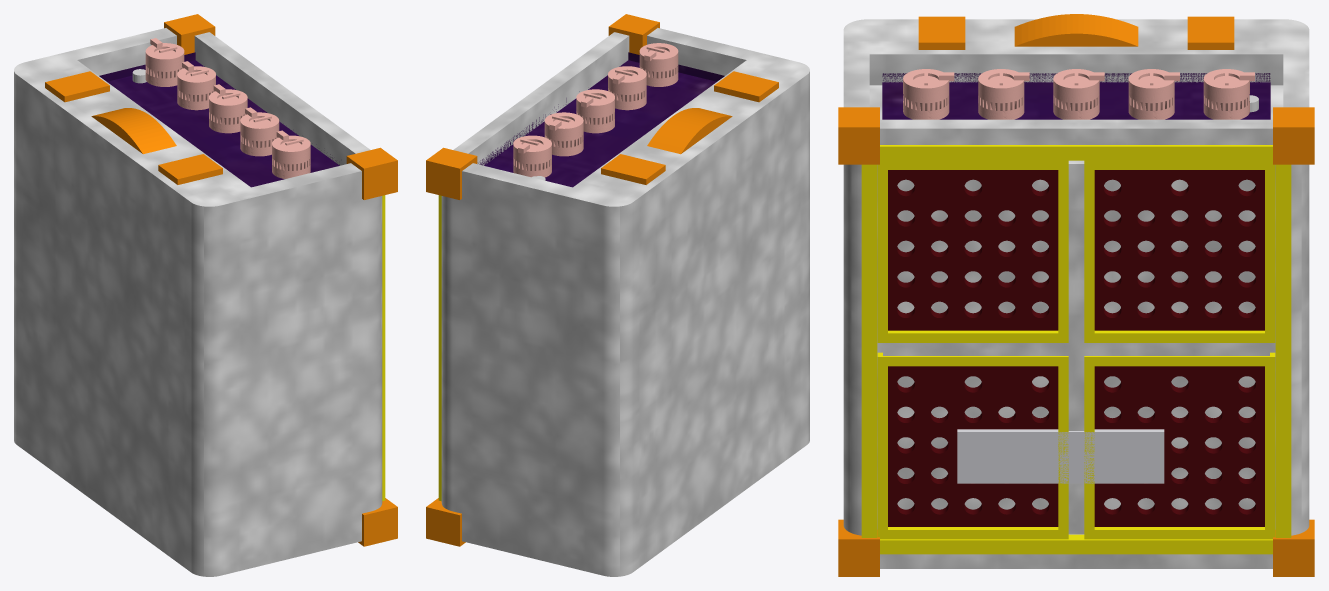
Rendered from Music_Amplifier__0003.glb.
3 views of the same model, side by side, from view 1: azimuth 30°, elevation 25°; view 2: azimuth 150°, elevation 25°; view 3: azimuth 270°, elevation 25° (orthographic). The views are drawn at different scales.
Parts seen in each view (by area): view 1: body::cabinet, body::gold_panel, body::handle, body::corner_cap_0_1, knob_0::knob_0, knob_4::knob_4, knob_1::knob_1, knob_2::knob_2, knob_3::knob_3, body::corner_cap_0_0, body::piping_v_1, body::corner_cap_1_1; view 2: body::cabinet, body::gold_panel, body::handle, body::corner_cap_1_1, knob_0::knob_0, knob_3::knob_3, knob_4::knob_4, knob_2::knob_2, knob_1::knob_1, body::corner_cap_1_0, body::piping_v_0, body::corner_cap_0_1; view 3: body::cabinet, body::grille_cell_2, body::grille_cell_3, body::grille_cell_1, body::grille_cell_0, body::marshall_logo, body::gold_panel, body::handle, body::piping_h_1, body::piping_v_0, body::piping_v_1, body::piping_h_0 (+27 smaller).
Part boxes in pixels (x1=…): body::cabinet: x1=14, y1=28, x2=382, y2=576; body::gold_panel: x1=99, y1=52, x2=339, y2=187; body::handle: x1=45, y1=71, x2=222, y2=184; body::corner_cap_0_1: x1=346, y1=147, x2=397, y2=199; knob_0::knob_0: x1=272, y1=130, x2=310, y2=178; knob_4::knob_4: x1=145, y1=38, x2=184, y2=86; knob_1::knob_1: x1=240, y1=107, x2=279, y2=156; knob_2::knob_2: x1=209, y1=84, x2=247, y2=133; knob_3::knob_3: x1=177, y1=61, x2=215, y2=110; body::corner_cap_0_0: x1=358, y1=498, x2=397, y2=546; body::piping_v_1: x1=382, y1=195, x2=385, y2=501; body::corner_cap_1_1: x1=164, y1=14, x2=215, y2=54; body::cabinet: x1=441, y1=28, x2=809, y2=576; body::gold_panel: x1=478, y1=52, x2=724, y2=187; body::handle: x1=601, y1=71, x2=778, y2=184; body::corner_cap_1_1: x1=426, y1=147, x2=477, y2=199; knob_0::knob_0: x1=639, y1=43, x2=678, y2=86; knob_3::knob_3: x1=544, y1=112, x2=583, y2=156; knob_4::knob_4: x1=513, y1=135, x2=551, y2=177; knob_2::knob_2: x1=576, y1=89, x2=614, y2=133; knob_1::knob_1: x1=608, y1=66, x2=646, y2=110; body::corner_cap_1_0: x1=426, y1=498, x2=465, y2=546; body::piping_v_0: x1=438, y1=195, x2=441, y2=501; body::corner_cap_0_1: x1=608, y1=14, x2=659, y2=54; body::cabinet: x1=843, y1=19, x2=1309, y2=568; body::grille_cell_2: x1=888, y1=170, x2=1058, y2=330; body::grille_cell_3: x1=1094, y1=170, x2=1264, y2=330; body::grille_cell_1: x1=1094, y1=366, x2=1264, y2=526; body::grille_cell_0: x1=888, y1=366, x2=1058, y2=526; body::marshall_logo: x1=957, y1=429, x2=1164, y2=483; body::gold_panel: x1=882, y1=73, x2=1270, y2=119; body::handle: x1=918, y1=14, x2=1234, y2=49; body::piping_h_1: x1=880, y1=534, x2=1272, y2=554; body::piping_v_0: x1=1275, y1=164, x2=1291, y2=537; body::piping_v_1: x1=861, y1=164, x2=877, y2=537; body::piping_h_0: x1=880, y1=145, x2=1272, y2=160.
Bounding box in the file's own units: 0.1085 × 0.2077 × 0.1938.
Materials: 8 (3 with a texture image).
